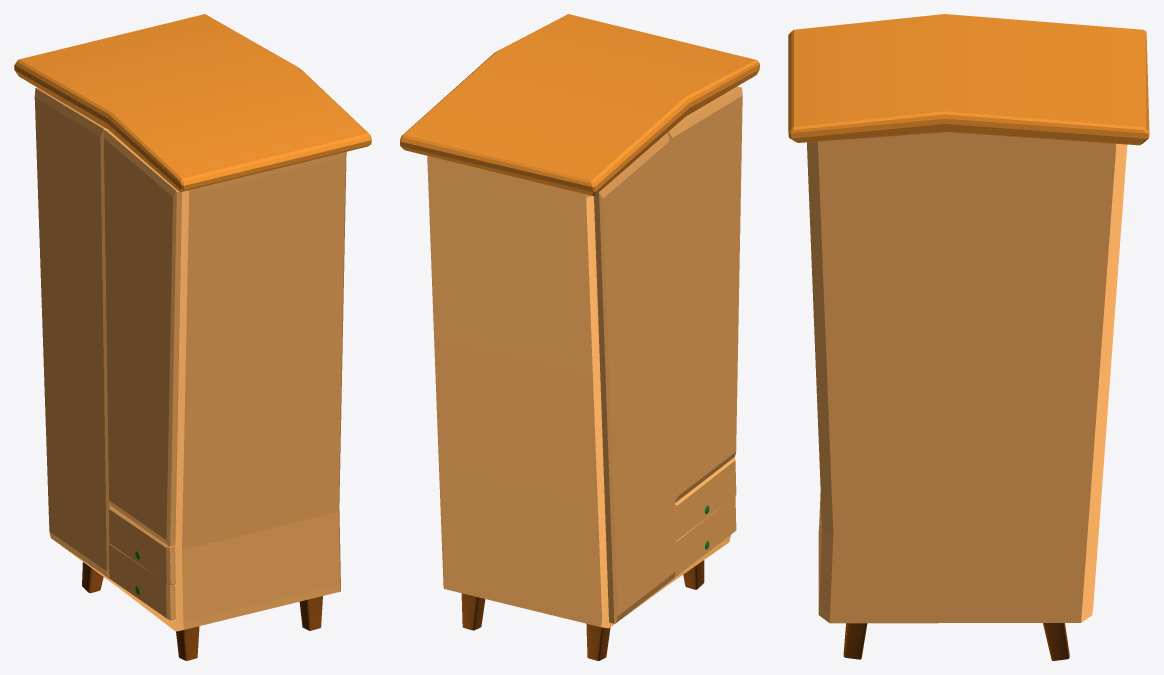
The model's file is guizi.fbx.
3 renders of one model, left to right at view 1: azimuth 30°, elevation 25°; view 2: azimuth 150°, elevation 25°; view 3: azimuth 270°, elevation 25°, orthographic. The views are drawn at different scales.
Parts seen in each view (by area): view 1: polySurface18; view 2: polySurface18; view 3: polySurface18.
Part boxes in pixels (x1,y1,x2,y2): polySurface18: [14, 14, 371, 660]; polySurface18: [400, 14, 759, 660]; polySurface18: [788, 14, 1149, 660].
Size of the model in its own units: 120 by 310 by 180.
